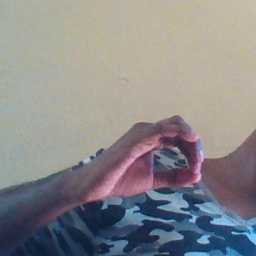O: (83, 109, 207, 202)
